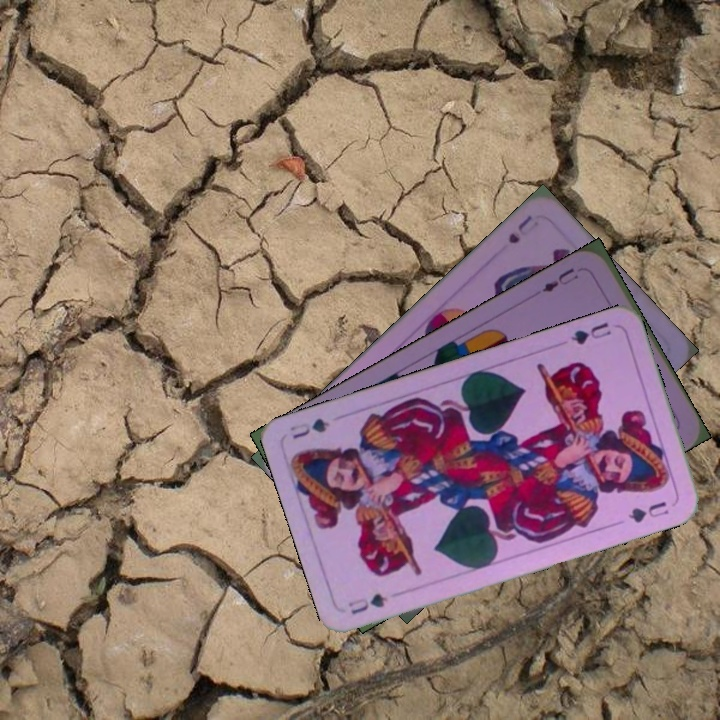EU: (537, 263, 581, 295)
GU: (567, 318, 614, 348), (344, 589, 391, 618)
SU: (504, 211, 535, 247)
